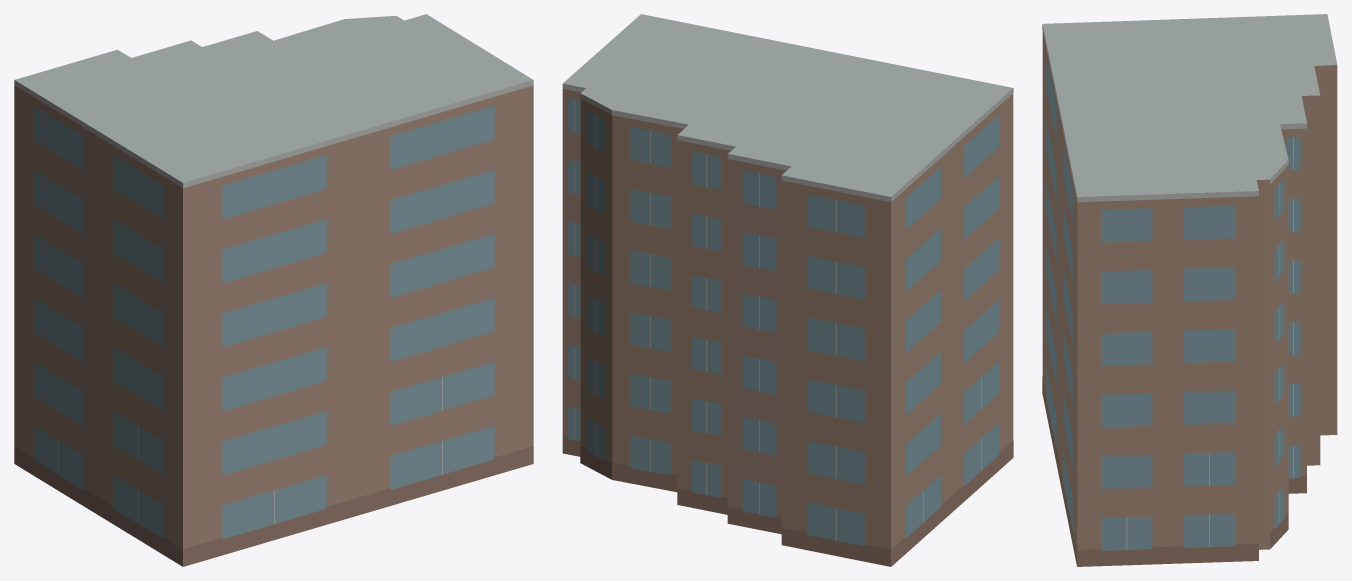
File: survey-upis-32756362.glb
3 views of the same model, side by side, from view 1: azimuth 30°, elevation 25°; view 2: azimuth 150°, elevation 25°; view 3: azimuth 270°, elevation 25° (orthographic). The views are drawn at different scales.
Visible parts, largest first — view 1: survey-upis-32756362.tmp; view 2: survey-upis-32756362.tmp; view 3: survey-upis-32756362.tmp.
Part boxes in pixels (x1,y1,x2,y2): survey-upis-32756362.tmp: [14, 14, 533, 566]; survey-upis-32756362.tmp: [562, 14, 1013, 566]; survey-upis-32756362.tmp: [1042, 14, 1337, 566].
Size of the model in its own units: 18.48 by 17.4 by 12.58.
